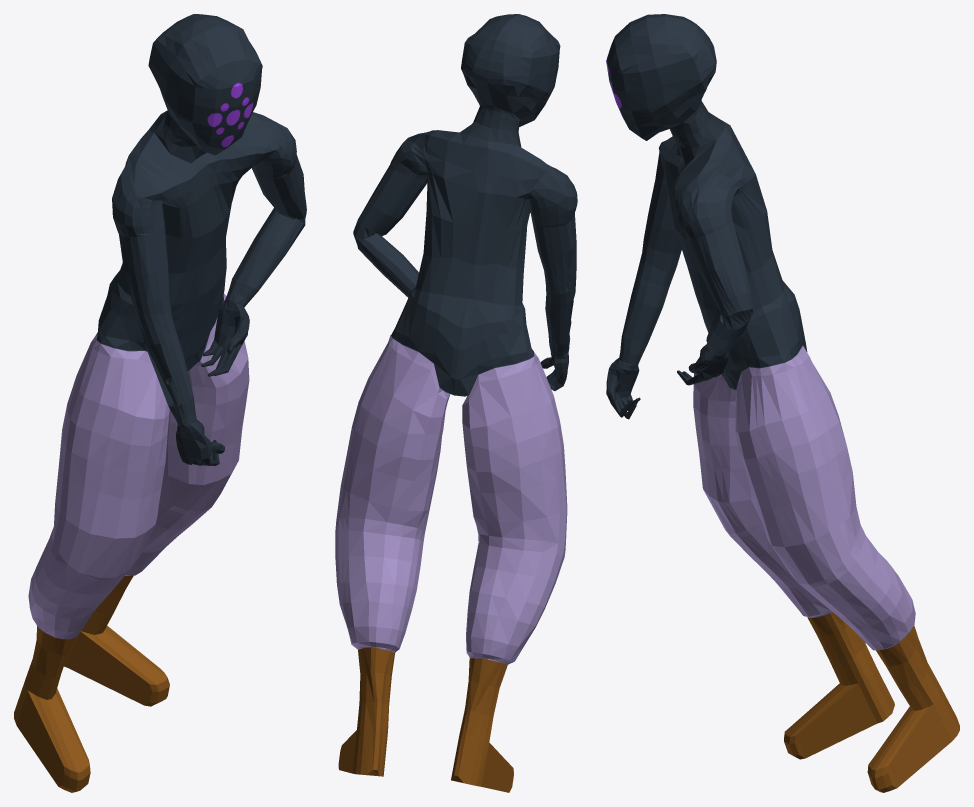
File: Oracle_Die_000004.obj
3 renders of one model, left to right at view 1: azimuth 30°, elevation 25°; view 2: azimuth 150°, elevation 25°; view 3: azimuth 270°, elevation 25°, orthographic. The views are drawn at different scales.
Visible parts, largest first — view 1: Cube; view 2: Cube; view 3: Cube.
Part boxes in pixels (x1,y1,x2,y2): Cube: [14, 14, 306, 792]; Cube: [335, 14, 577, 792]; Cube: [606, 14, 959, 792].
Bounding box in the file's own units: 1.22 × 3.91 × 1.63.
